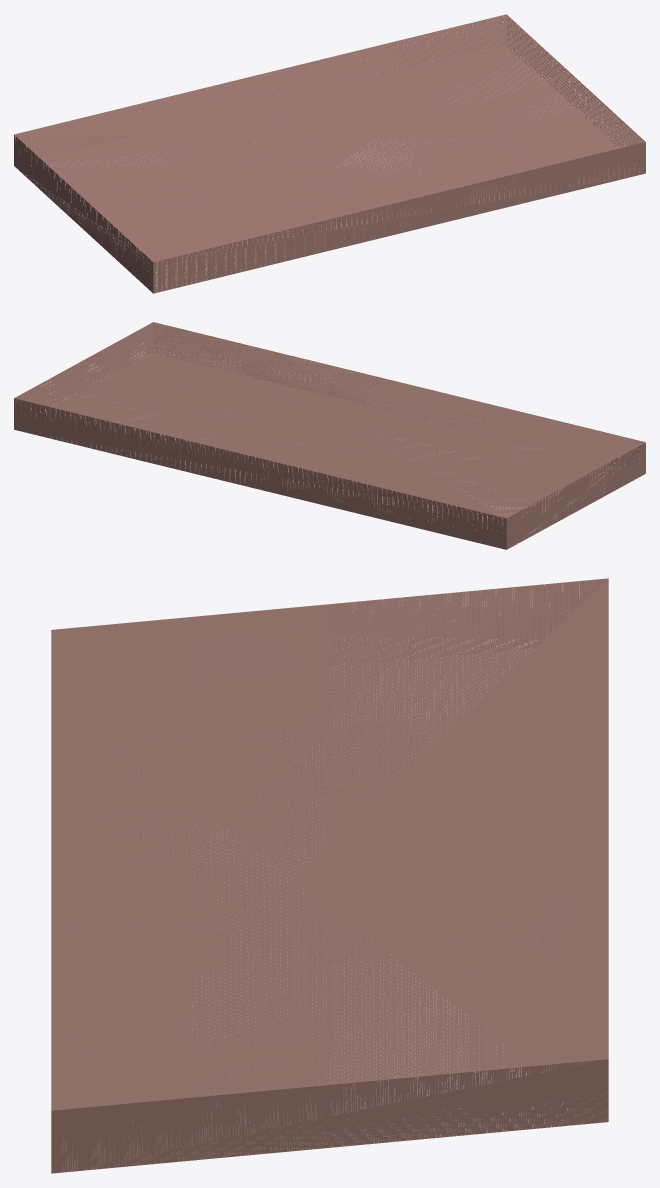
The model's file is SW_ENV_EL_Station_Roof_A_01_Collision.fbx.
The picture shows the model from 3 angles, top to bottom: view 1: azimuth 30°, elevation 25°; view 2: azimuth 150°, elevation 25°; view 3: azimuth 270°, elevation 25°; orthographic projection. The views are drawn at different scales.
Parts seen in each view (by area): view 1: SW_ENV_EL_Station_Roof_A_01_Collision; view 2: SW_ENV_EL_Station_Roof_A_01_Collision; view 3: SW_ENV_EL_Station_Roof_A_01_Collision.
Part boxes in pixels (box(x1,y1,x2,y2)): SW_ENV_EL_Station_Roof_A_01_Collision: box(14, 14, 645, 293); SW_ENV_EL_Station_Roof_A_01_Collision: box(14, 322, 645, 549); SW_ENV_EL_Station_Roof_A_01_Collision: box(51, 578, 608, 1173).
Bounding box in the file's own units: 1000 × 111 × 490.
